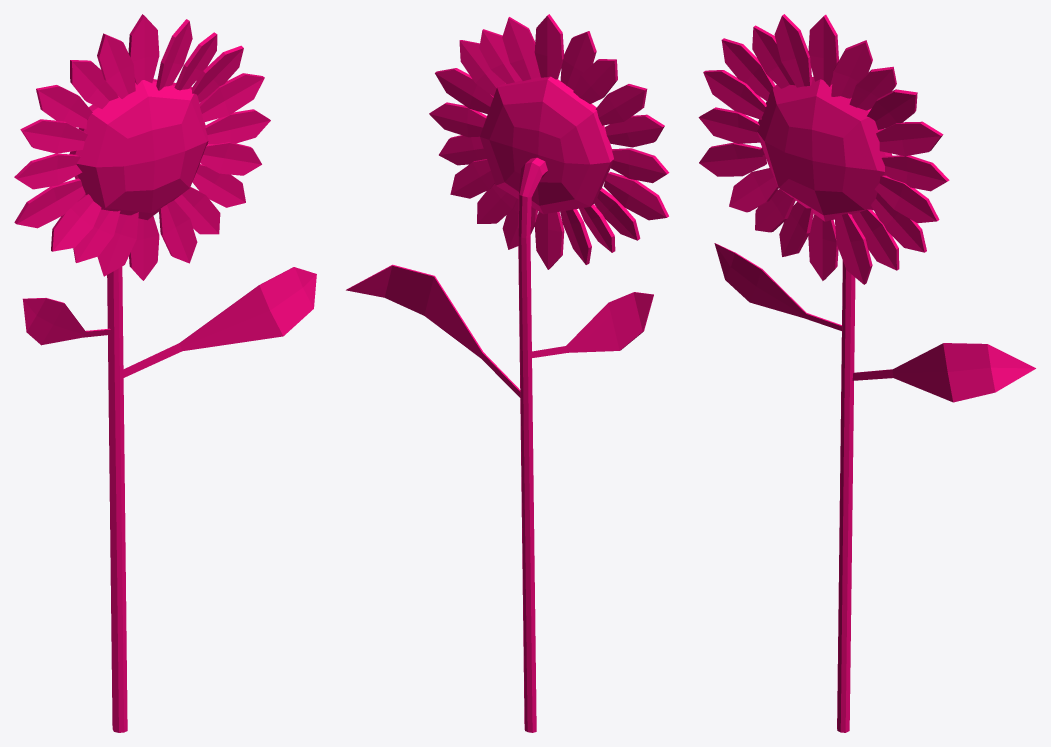
File: SM_SS_Sunflower.fbx
3 renders of one model, left to right at view 1: azimuth 30°, elevation 25°; view 2: azimuth 150°, elevation 25°; view 3: azimuth 330°, elevation 25°, orthographic. The views are drawn at different scales.
Parts seen in each view (by area): view 1: SM_SS_Sunflower; view 2: SM_SS_Sunflower; view 3: SM_SS_Sunflower.
Boxes of the visible parts, x1,y1,x2,y2 form: SM_SS_Sunflower: (14,14,316,732); SM_SS_Sunflower: (346,14,669,732); SM_SS_Sunflower: (698,14,1035,732).
Bounding box in the file's own units: 65.55 × 15.12 × 143.
